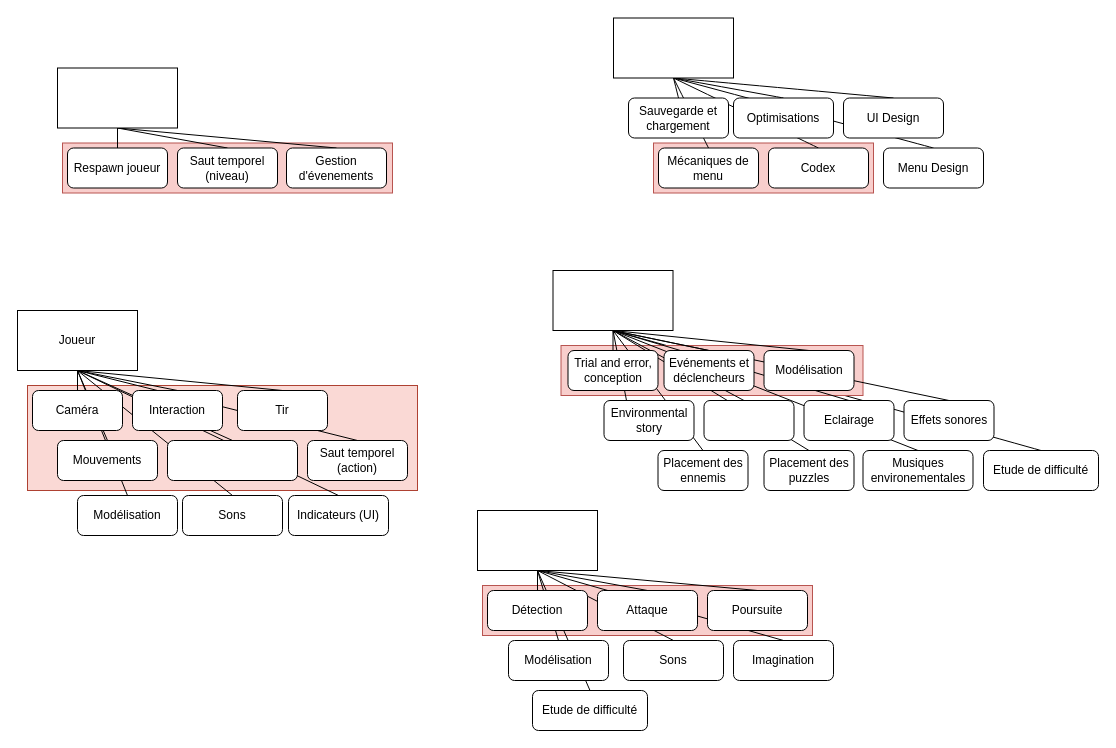
Image size: 1116x748. Some labels were removed from this diagram. Each missing label, with the centre of its shape:
Conception de niveaux: (612,300)
Décors: (748,420)
Ennemis: (537,540)
Jeu: (673,47)
Possession d'objet: (232,460)
Scène: (117,97)
